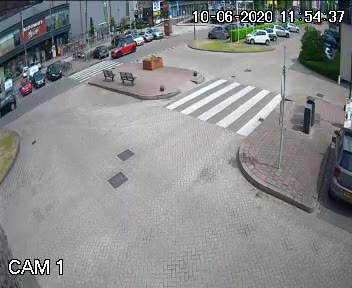car: (104, 37, 138, 55), (0, 91, 17, 107)
